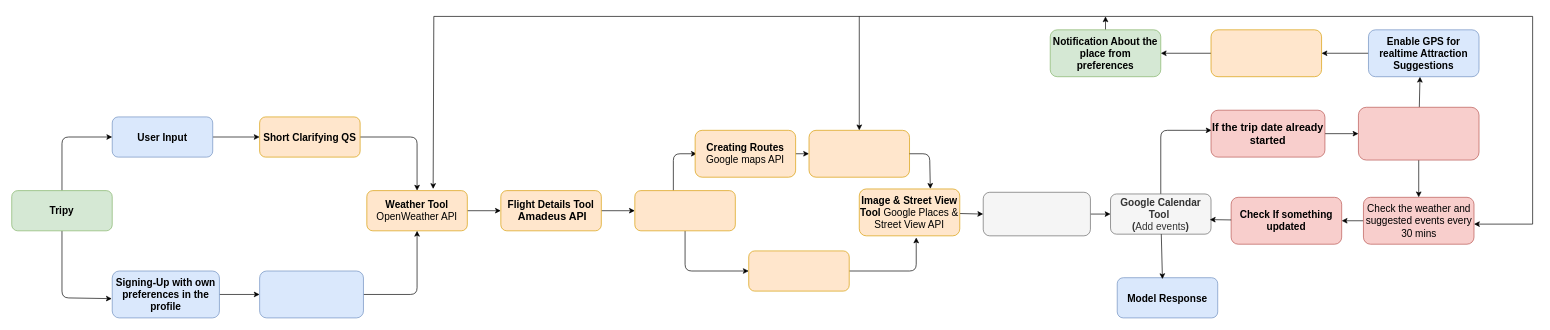
The diagram is 1550 pixels wide and 330 high, and some of its shapes have lost their labels. Here are the shapes that lost their labels. From the top down, the centre of each, then its label:
At [1266,53]: "Google Places API for realtime tracking".
At [859,153]: "Events with Eventbrite API".
At [1418,133]: "Live Trip Mode Experience".
At [684,210]: "Map Plotting Tool follum:/geopy/ Google maps API".
At [1036,214]: "Final Travel Plan ( itinerary generation )".
At [798,270]: "Googe Cloud Vision".
At [311,294]: "User Prompt".
